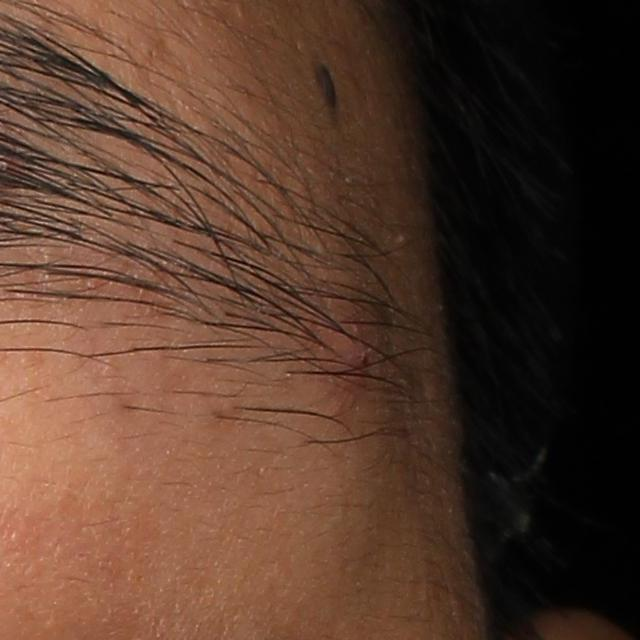nevus: (307, 53, 339, 128)
